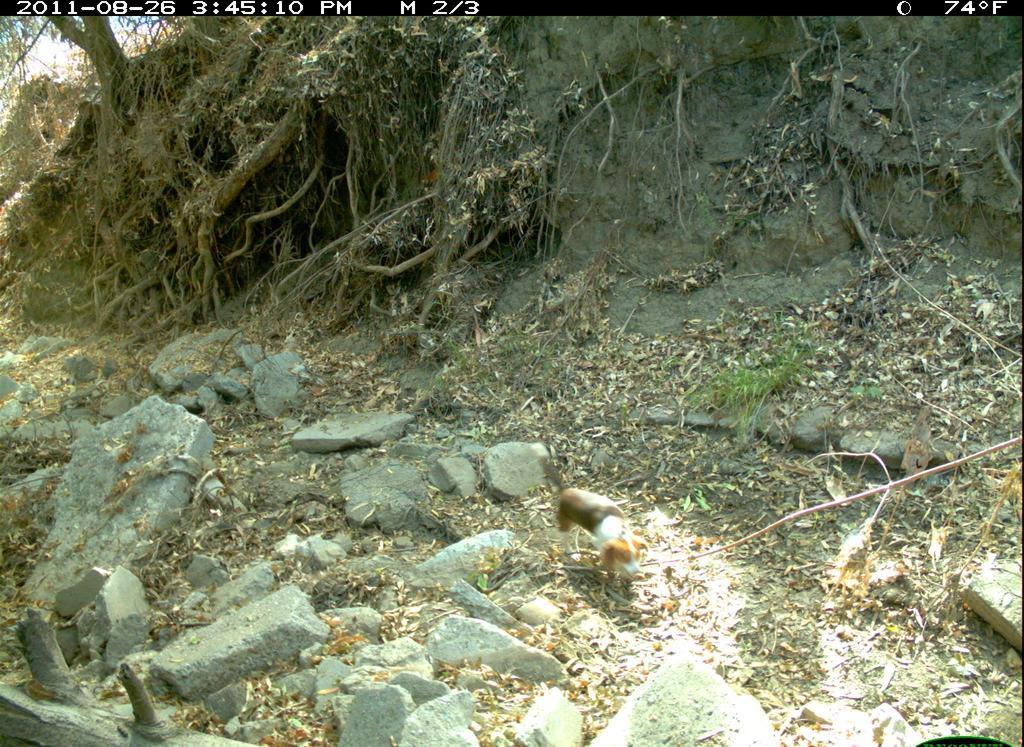dog: (529, 443, 653, 600)
